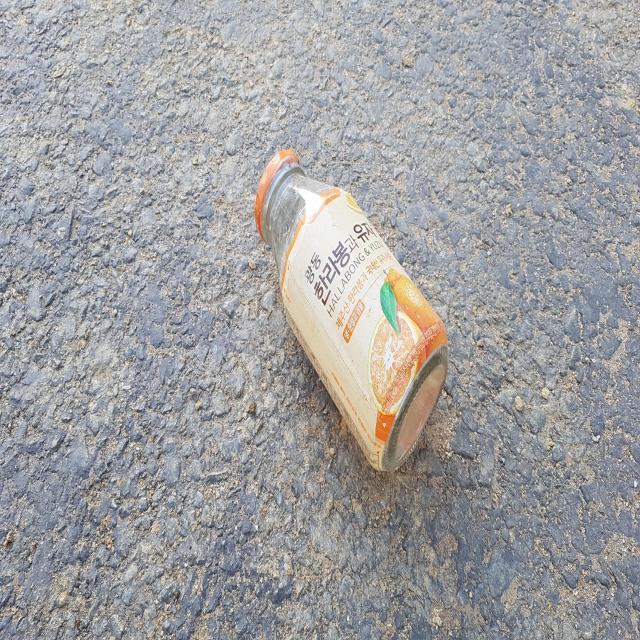glass: (255, 151, 450, 471)
